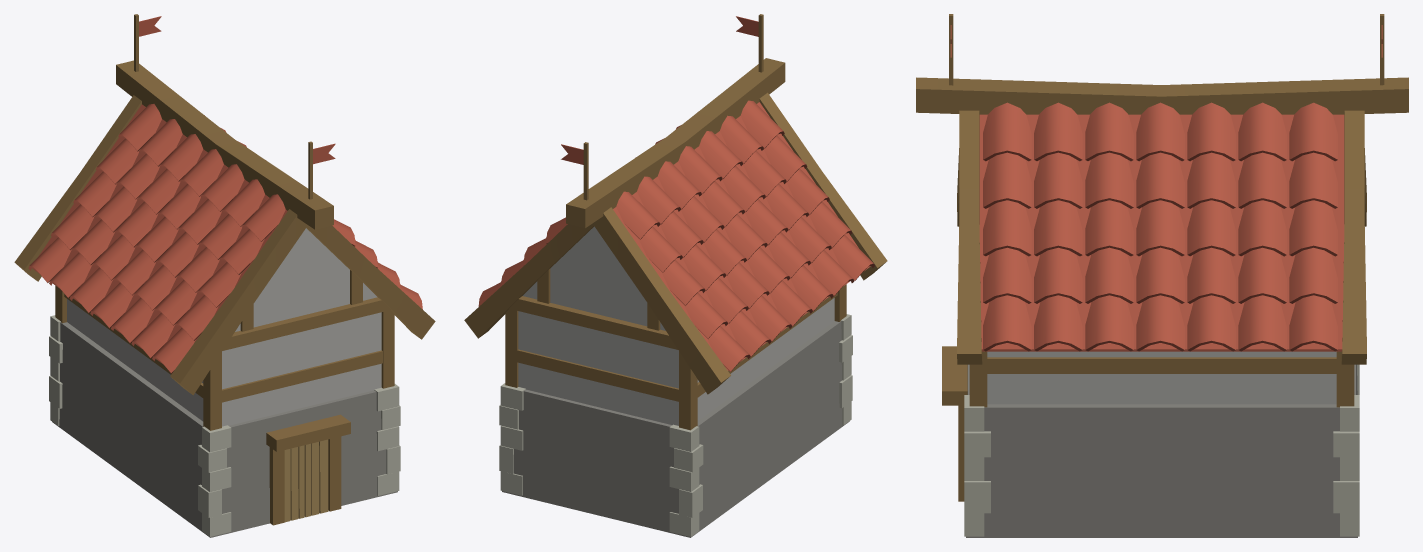
Rendered from quaternius-real-time-strategy-houses-second-age-1-level-3.glb.
3 renders of one model, left to right at view 1: azimuth 30°, elevation 25°; view 2: azimuth 150°, elevation 25°; view 3: azimuth 270°, elevation 25°, orthographic. The views are drawn at different scales.
Parts seen in each view (by area): view 1: Houses_SecondAge_1_Level3; view 2: Houses_SecondAge_1_Level3; view 3: Houses_SecondAge_1_Level3.
Part boxes in pixels (x1,y1,x2,y2): Houses_SecondAge_1_Level3: [14, 14, 435, 537]; Houses_SecondAge_1_Level3: [464, 14, 887, 537]; Houses_SecondAge_1_Level3: [916, 14, 1408, 537].
Bounding box in the file's own units: 0.89 × 1.23 × 1.17.
1 material, 1 textured.
